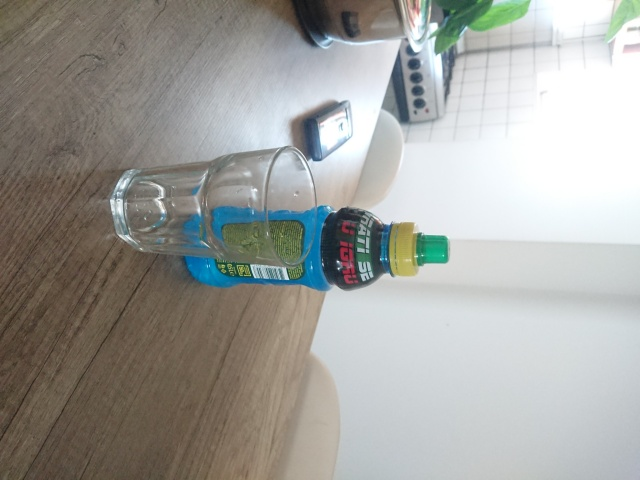Vindi Iso Sport Forest Strawberries 500mL: (180, 201, 452, 293)
